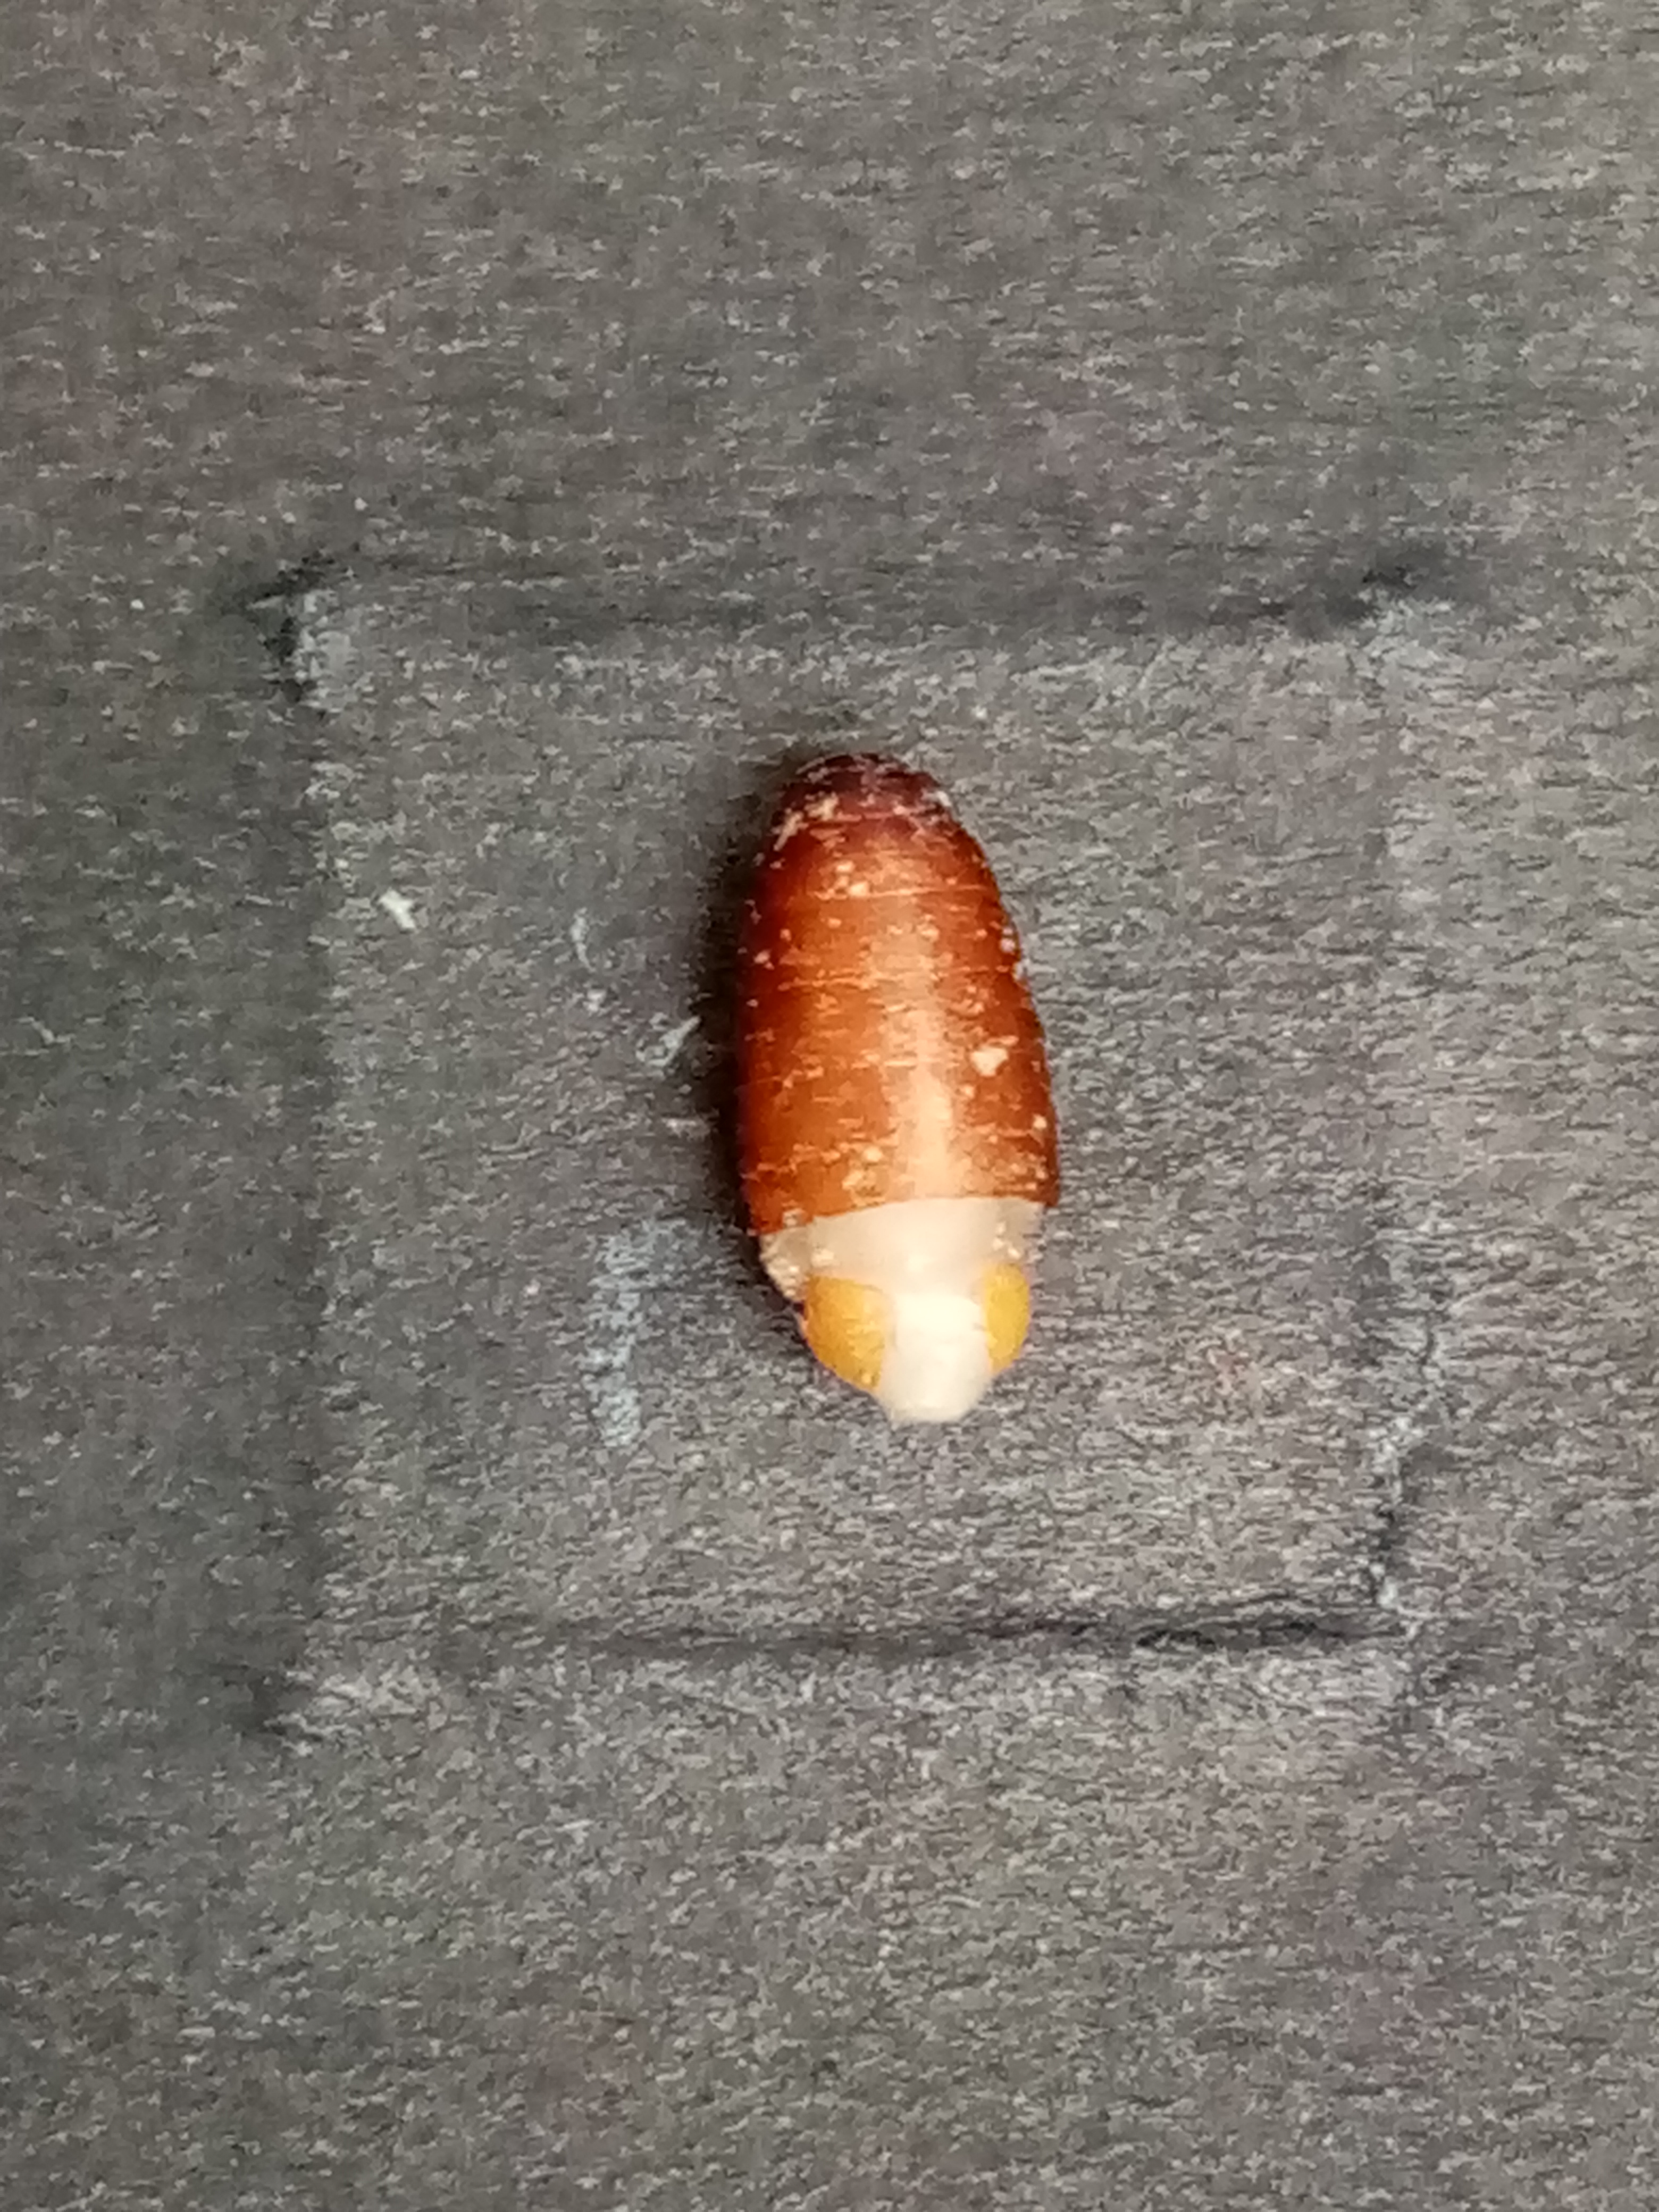pupa: (762, 1244, 1047, 1426)
